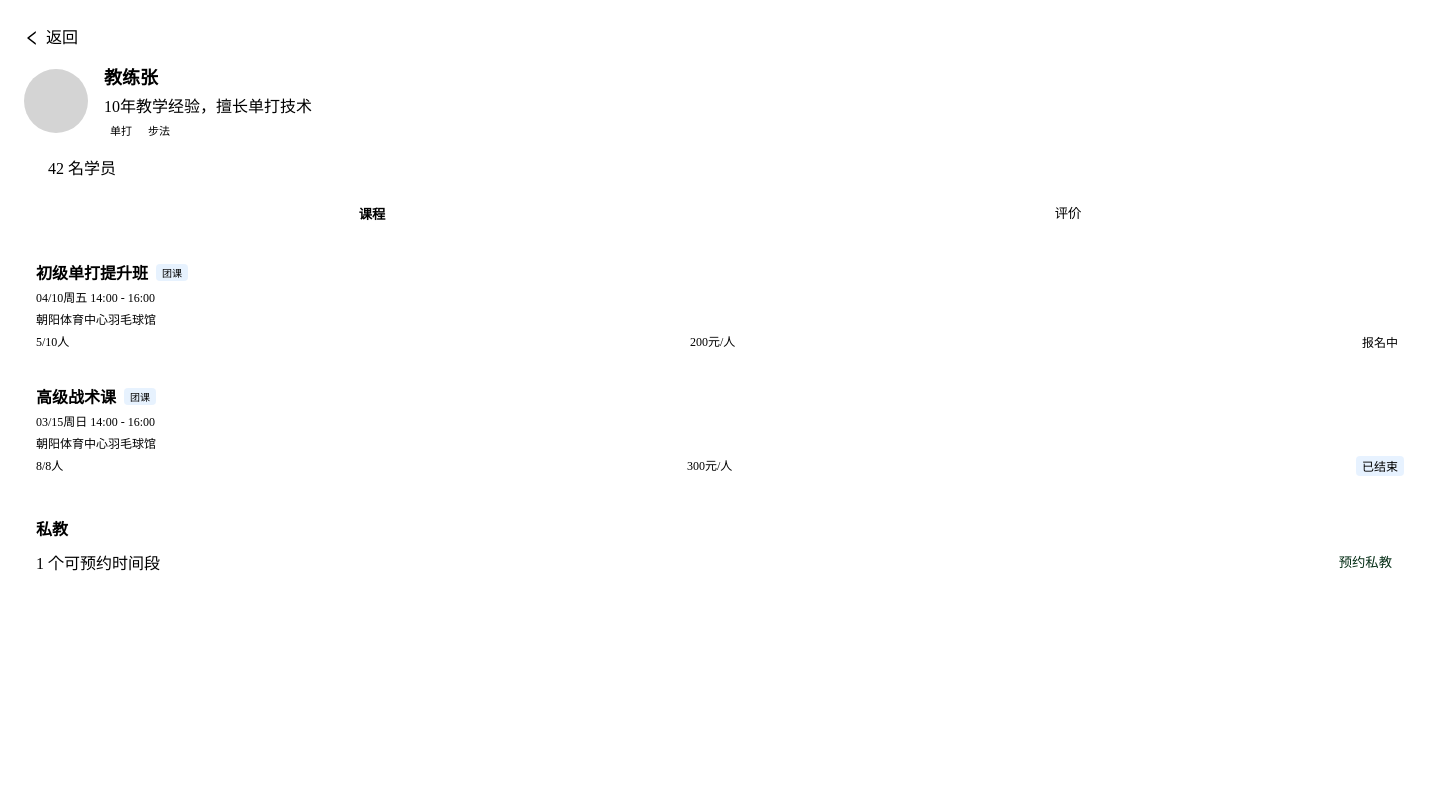
Test: CoachProfilePage › should load and render reviews when reviews tab is clicked
The image size is (1440, 810).
// Click the reviews tab
Click the button "评价": (1068, 214) [720,195,1416,232]
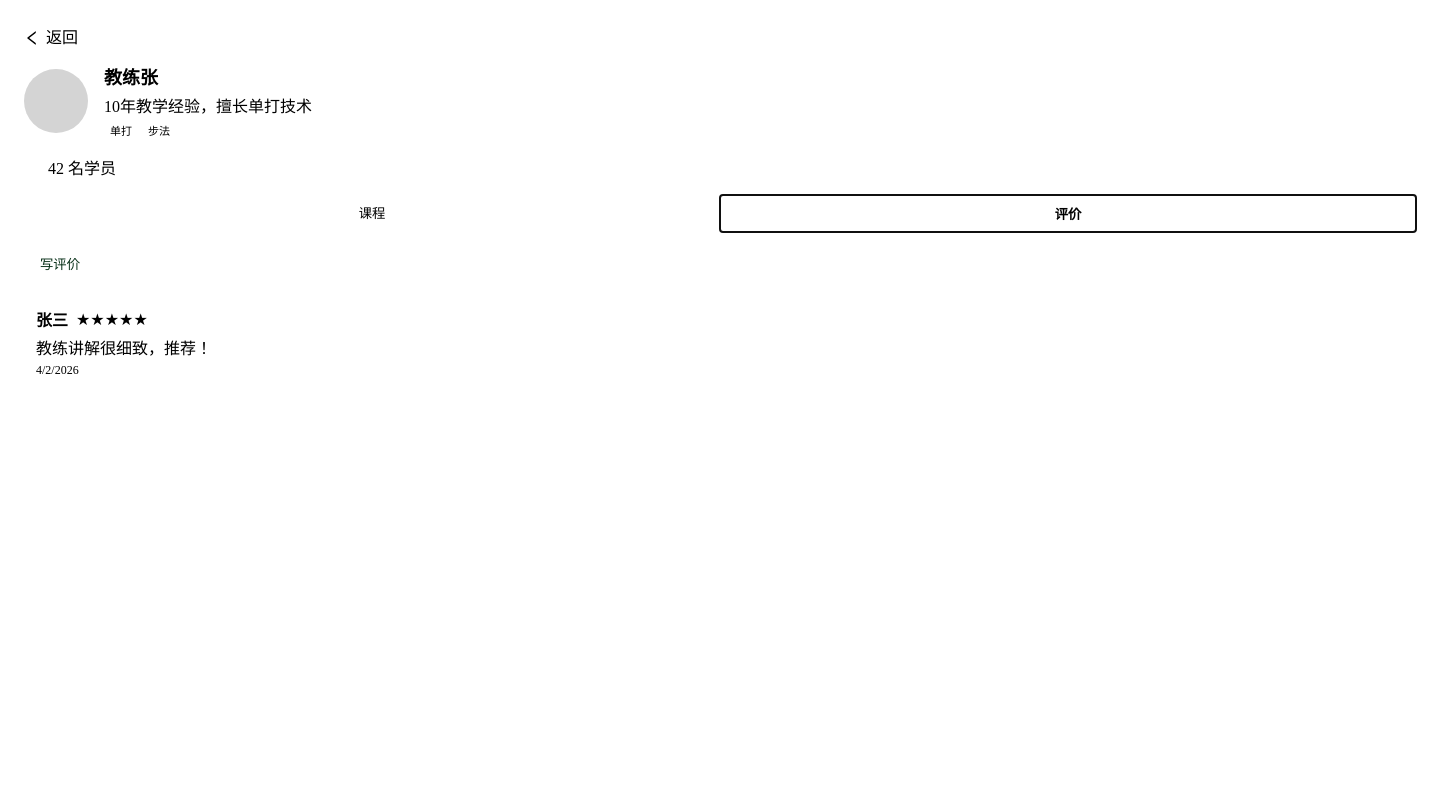
Result: the text "张三" is shown at [36,307,68,331]
Result: the text "教练讲解很细致，推荐！" is shown at [36,340,212,357]
